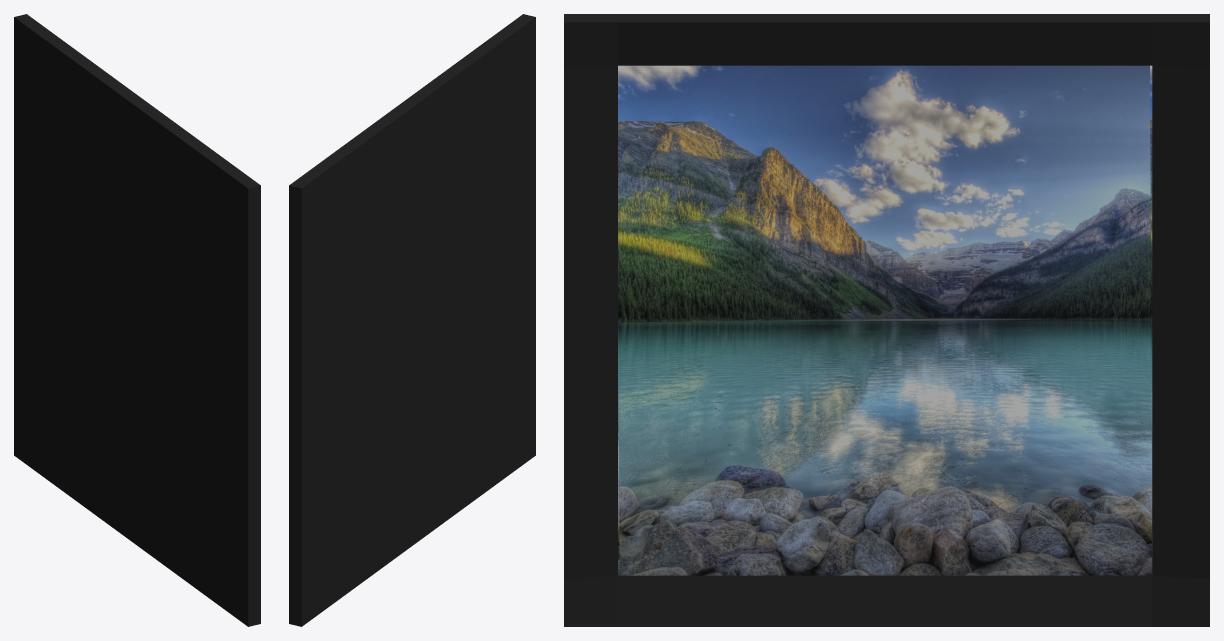
File: Obraz.fbx
3 views of the same model, side by side, from view 1: azimuth 30°, elevation 25°; view 2: azimuth 150°, elevation 25°; view 3: azimuth 270°, elevation 25° (orthographic). The views are drawn at different scales.
Visible parts, largest first — view 1: Cube; view 2: Cube; view 3: Cube.
Part boxes in pixels (left/top/right/bottom): Cube: left=14, top=14, right=260, bottom=626; Cube: left=289, top=14, right=535, bottom=626; Cube: left=564, top=14, right=1209, bottom=626.
Size of the model in its own units: 15.03 by 499 by 483.
